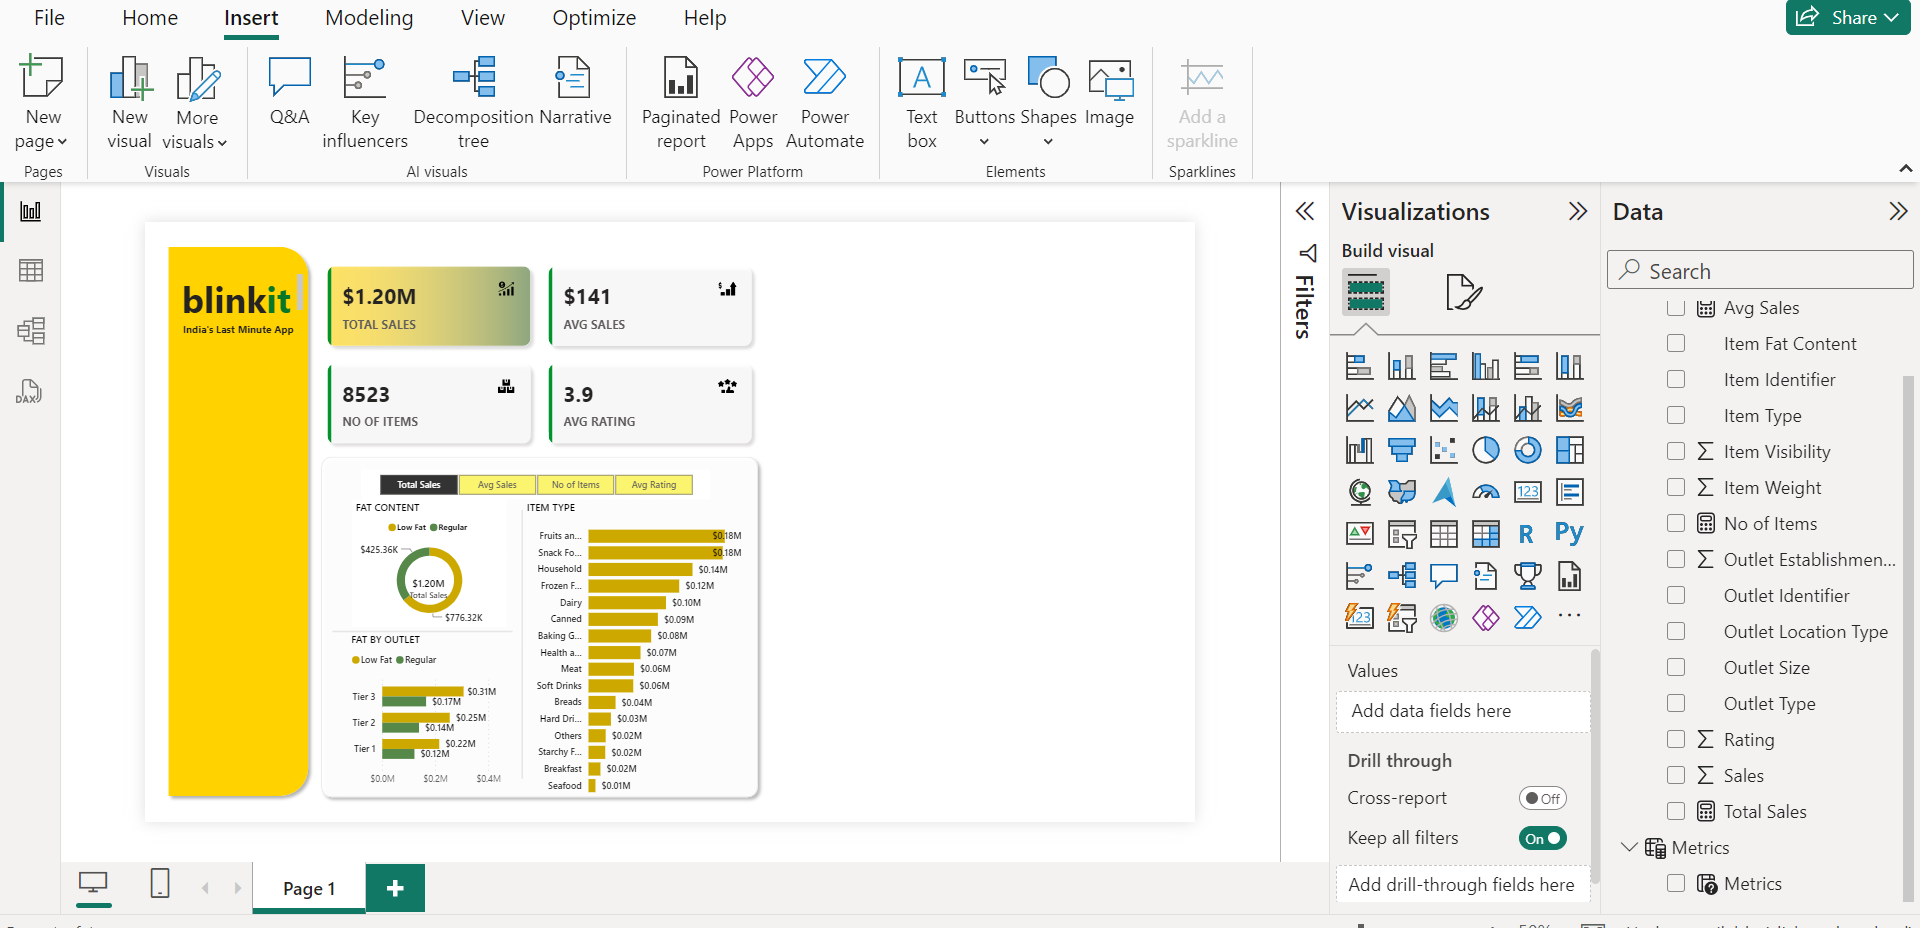

This screenshot's page, from the dashboard's own definition file:
{"tool":"powerbi","page":{"name":"Page 1","canvas":[1400,800],"ordinal":0},"visuals":[{"type":"shape","box":[22,24,206,752],"z":0},{"type":"textbox","box":[275.5,25,205,750],"z":1000},{"type":"textbox","box":[529,25,205,304],"z":2000},{"type":"textbox","box":[33.6,63.6,181.9,65.3],"z":3000},{"type":"textbox","box":[44.2,128.9,160.7,65.3],"z":4000},{"type":"cardVisual","fields":{"Data":["BlinkIT Grocery Data.Total Sales","BlinkIT Grocery Data.Avg Sales","BlinkIT Grocery Data.No of Items","BlinkIT Grocery Data.Avg Rating"]},"box":[226,24,600,288],"z":5000},{"type":"shape","box":[226,303.8,591.6,471.5],"z":6000},{"type":"donutChart","title":"FAT CONTENT","fields":{"Y":["BlinkIT Grocery Data.Total Sales"],"Category":["BlinkIT Grocery Data.Item Fat Content"]},"box":[250,370,242,170],"z":7000},{"type":"slicer","fields":{"Values":["Metrics.Metrics"]},"box":[288,330,466,40],"z":8000},{"type":"cardVisual","fields":{"Data":["BlinkIT Grocery Data.Total Sales"]},"box":[320,440,100,58],"z":9000},{"type":"clusteredBarChart","title":"FAT BY OUTLET","fields":{"Y":["BlinkIT Grocery Data.Total Sales"],"Category":["BlinkIT Grocery Data.Outlet Location Type"],"Series":["BlinkIT Grocery Data.Item Fat Content"]},"box":[250.8,545.7,252.5,213.7],"z":10000},{"type":"shape","box":[250,528,240,36],"z":11000},{"type":"shape","box":[492,384,22,358],"z":12000},{"type":"barChart","title":"ITEM TYPE","fields":{"Y":["BlinkIT Grocery Data.Total Sales"],"Category":["BlinkIT Grocery Data.Item Type"]},"box":[504,370,296,404],"z":13000},{"type":"lineChart","title":"OUTLET ESTABLISHMENT","fields":{"Y":["BlinkIT Grocery Data.Total Sales"],"Category":["BlinkIT Grocery Data.Outlet Establishment Year"]},"box":[825.5,43.6,558.2,260],"z":14000},{"type":"shape","box":[818.2,310.9,574.5,16.4],"z":15000},{"type":"donutChart","title":"OUTLET SIZE","fields":{"Y":["BlinkIT Grocery Data.Total Sales"],"Category":["BlinkIT Grocery Data.Outlet Size"]},"box":[826,320.8,278.7,242.6],"z":16000},{"type":"funnel","title":"OUTLET LOCATION","fields":{"Y":["Sum(BlinkIT Grocery Data.Sales)"],"Category":["BlinkIT Grocery Data.Outlet Location Type"]},"box":[1104.6,320.8,288.7,242.6],"z":17000},{"type":"pivotTable","fields":{"Rows":["BlinkIT Grocery Data.Outlet Type"],"Values":["BlinkIT Grocery Data.Total Sales","BlinkIT Grocery Data.No of Items","BlinkIT Grocery Data.Avg Sales","BlinkIT Grocery Data.Avg Rating","Sum(BlinkIT Grocery Data.Item Visibility)"]},"box":[824,563.3,577.4,212.5],"z":18000},{"type":"slicer","fields":{"Values":["BlinkIT Grocery Data.Outlet Location Type"]},"box":[40.6,284.3,174.8,98.9],"z":19000},{"type":"slicer","fields":{"Values":["BlinkIT Grocery Data.Outlet Size"]},"box":[38.9,406.2,174.8,98.9],"z":20000},{"type":"slicer","fields":{"Values":["BlinkIT Grocery Data.Item Type"]},"box":[37.1,528,174.8,97.1],"z":21000},{"type":"textbox","box":[40.6,226,174.8,33.6],"z":22000},{"type":"textbox","box":[33.6,653.4,148.3,81.2],"z":23000}]}

Visuals, with their boxes on the page's 1400x800 design canvas (x1, y1, x2, y2). These are canvas units, not pixel positions in the 1920x928 screenshot, which may show the page scaled, cropped or inside an application window:
shape: box=[22, 24, 228, 776]
textbox: box=[276, 25, 480, 775]
textbox: box=[529, 25, 734, 329]
textbox: box=[34, 64, 216, 129]
textbox: box=[44, 129, 205, 194]
cardVisual - BlinkIT Grocery Data.Total Sales x BlinkIT Grocery Data.Avg Sales: box=[226, 24, 826, 312]
shape: box=[226, 304, 818, 775]
"FAT CONTENT" donutChart: box=[250, 370, 492, 540]
slicer - Metrics.Metrics: box=[288, 330, 754, 370]
cardVisual - BlinkIT Grocery Data.Total Sales: box=[320, 440, 420, 498]
"FAT BY OUTLET" clusteredBarChart: box=[251, 546, 503, 759]
shape: box=[250, 528, 490, 564]
shape: box=[492, 384, 514, 742]
"ITEM TYPE" barChart: box=[504, 370, 800, 774]
"OUTLET ESTABLISHMENT" lineChart: box=[826, 44, 1384, 304]
shape: box=[818, 311, 1393, 327]
"OUTLET SIZE" donutChart: box=[826, 321, 1105, 563]
"OUTLET LOCATION" funnel: box=[1105, 321, 1393, 563]
pivotTable - BlinkIT Grocery Data.Outlet Type x BlinkIT Grocery Data.Total Sales: box=[824, 563, 1401, 776]
slicer - BlinkIT Grocery Data.Outlet Location Type: box=[41, 284, 215, 383]
slicer - BlinkIT Grocery Data.Outlet Size: box=[39, 406, 214, 505]
slicer - BlinkIT Grocery Data.Item Type: box=[37, 528, 212, 625]
textbox: box=[41, 226, 215, 260]
textbox: box=[34, 653, 182, 735]
